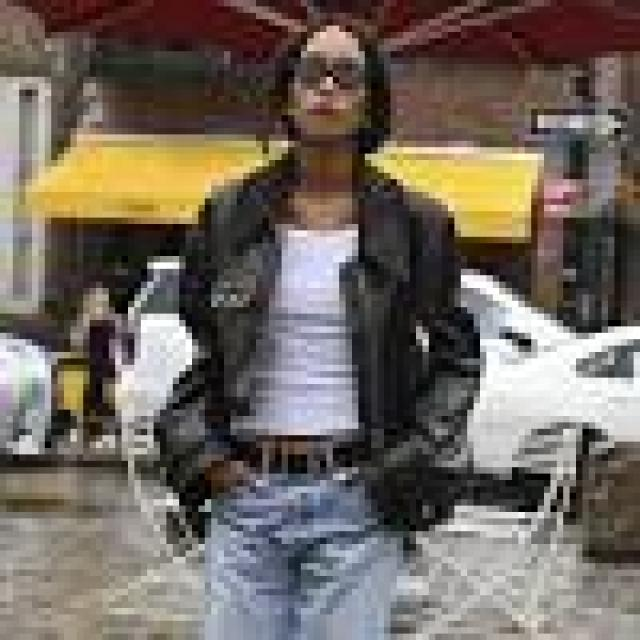Jacket: (153, 150, 489, 510)
